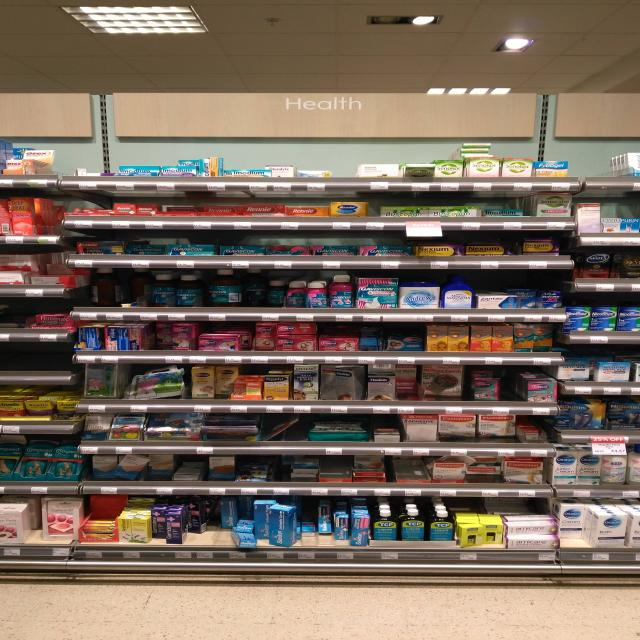unorganised: (318, 364, 363, 401), (264, 501, 297, 547), (205, 268, 242, 304), (88, 266, 117, 305), (556, 503, 588, 538), (112, 453, 149, 481), (171, 455, 206, 482), (262, 415, 298, 441), (234, 457, 268, 482), (214, 363, 238, 396), (255, 498, 273, 540), (151, 322, 177, 350), (531, 323, 556, 352), (218, 497, 238, 533), (396, 362, 419, 392), (506, 522, 559, 535), (253, 320, 275, 350), (289, 456, 320, 477), (457, 525, 483, 550), (473, 377, 500, 401), (186, 503, 206, 534), (286, 280, 307, 308), (316, 500, 333, 534), (451, 455, 507, 465), (481, 521, 503, 544), (373, 425, 401, 443), (153, 507, 168, 540), (406, 163, 435, 180), (466, 464, 500, 477), (268, 280, 285, 305), (234, 527, 257, 545), (129, 245, 168, 255), (336, 512, 349, 541), (236, 519, 254, 532), (299, 522, 316, 532)
